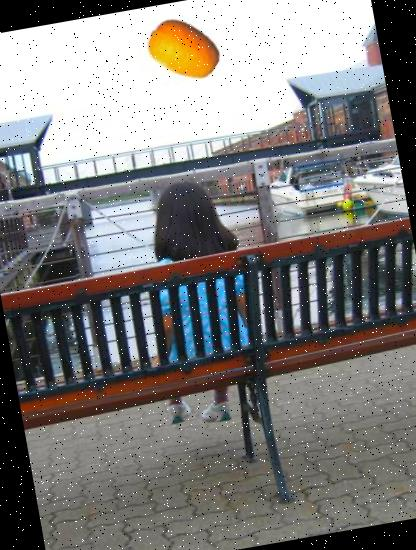Kumquats: (141, 7, 226, 92)
